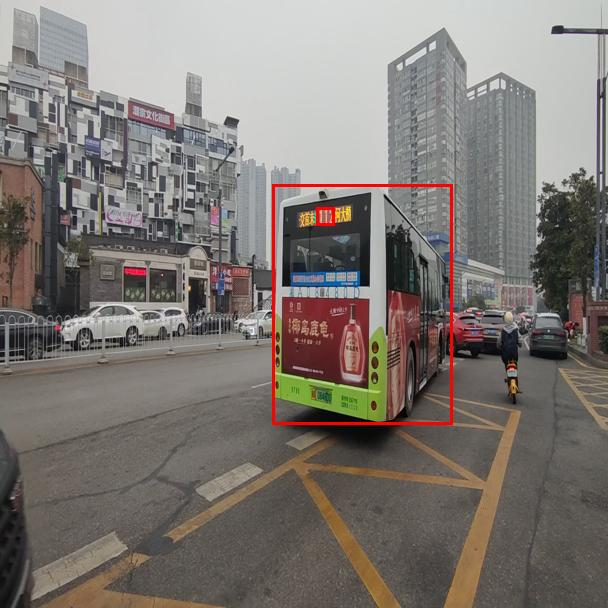bus: (272, 184, 452, 424)
screen: (316, 207, 334, 225)
